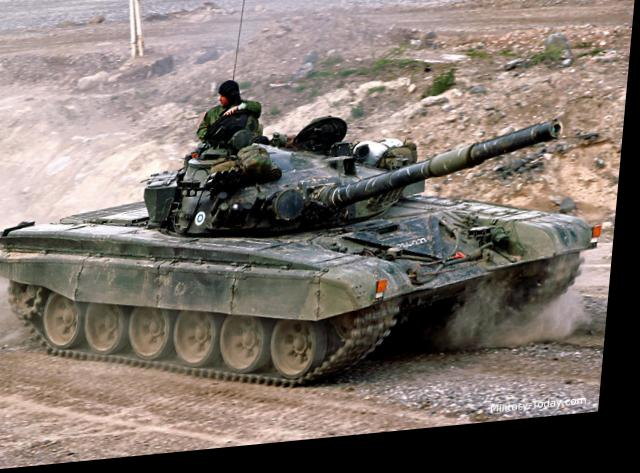other: (201, 85, 263, 146)
tank: (7, 112, 610, 392)
